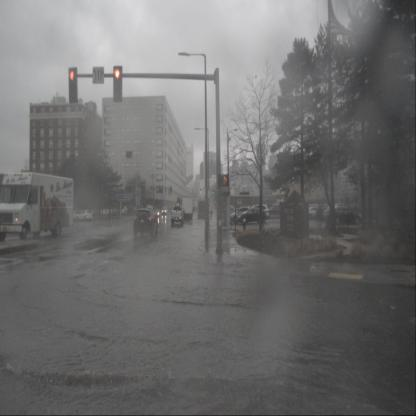vehicle-car: (134, 207, 158, 237), (331, 206, 361, 226), (240, 207, 267, 223), (245, 204, 270, 220), (230, 206, 253, 223), (306, 206, 324, 220), (75, 210, 92, 222), (161, 207, 168, 215), (154, 209, 160, 218)
vehicle-truck: (0, 172, 74, 242), (182, 194, 194, 220), (171, 205, 185, 226), (198, 200, 208, 219)
